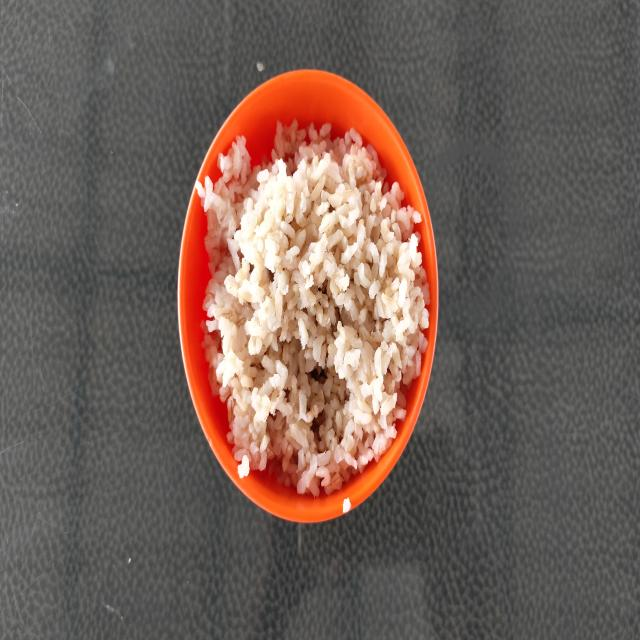brown-rice: (196, 122, 430, 496)
